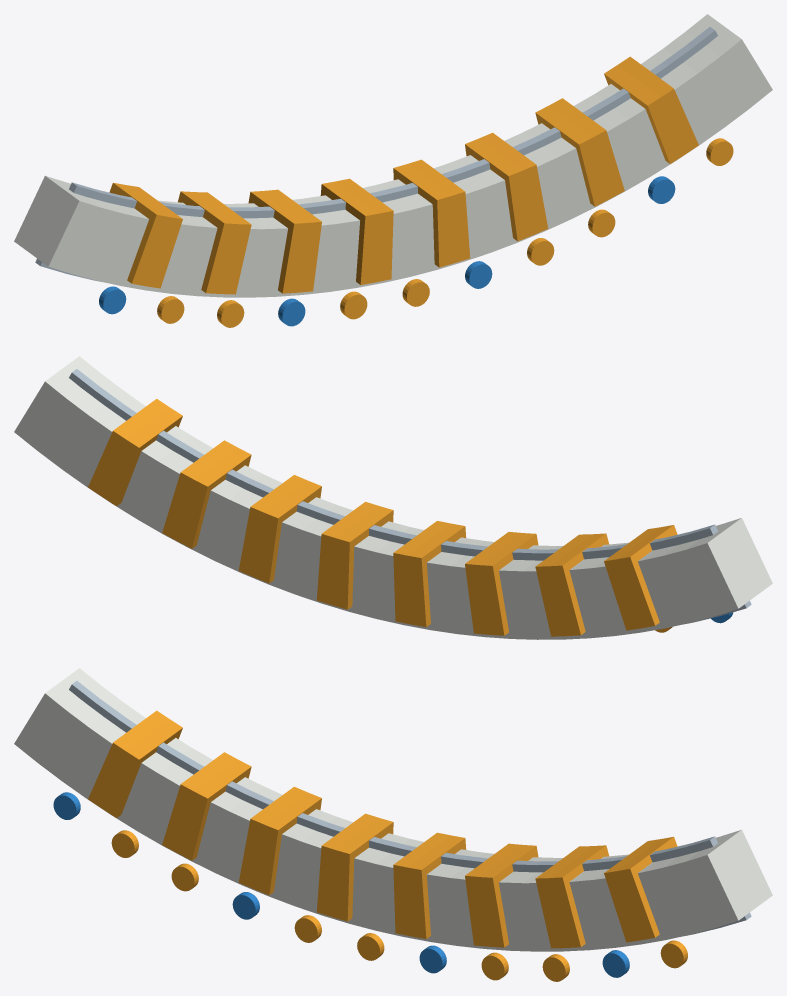
File: 09_L87_HabitatSegmentE.fbx
3 views of the same model, one above another, from view 1: azimuth 30°, elevation 25°; view 2: azimuth 150°, elevation 25°; view 3: azimuth 330°, elevation 25° (orthographic).
Parts seen in each view (by area): view 1: L87_HabitatSegmentE_Part_0000, L87_HabitatSegmentE_Part_0003, L87_HabitatSegmentE_Part_0001, L87_HabitatSegmentE_Part_0002; view 2: L87_HabitatSegmentE_Part_0000, L87_HabitatSegmentE_Part_0003, L87_HabitatSegmentE_Part_0001; view 3: L87_HabitatSegmentE_Part_0000, L87_HabitatSegmentE_Part_0003, L87_HabitatSegmentE_Part_0001, L87_HabitatSegmentE_Part_0002.
Part boxes in pixels (left/top/right/bottom): L87_HabitatSegmentE_Part_0000: left=14, top=14, right=772, bottom=297; L87_HabitatSegmentE_Part_0003: left=109, top=56, right=733, bottom=327; L87_HabitatSegmentE_Part_0001: left=35, top=27, right=717, bottom=281; L87_HabitatSegmentE_Part_0002: left=99, top=176, right=675, bottom=326; L87_HabitatSegmentE_Part_0000: left=14, top=356, right=772, bottom=639; L87_HabitatSegmentE_Part_0003: left=88, top=399, right=677, bottom=636; L87_HabitatSegmentE_Part_0001: left=69, top=369, right=751, bottom=624; L87_HabitatSegmentE_Part_0000: left=14, top=668, right=772, bottom=951; L87_HabitatSegmentE_Part_0003: left=88, top=710, right=687, bottom=981; L87_HabitatSegmentE_Part_0001: left=69, top=681, right=751, bottom=935; L87_HabitatSegmentE_Part_0002: left=53, top=792, right=629, bottom=977.
Bounding box in the file's own units: 534 × 128 × 59.75.
